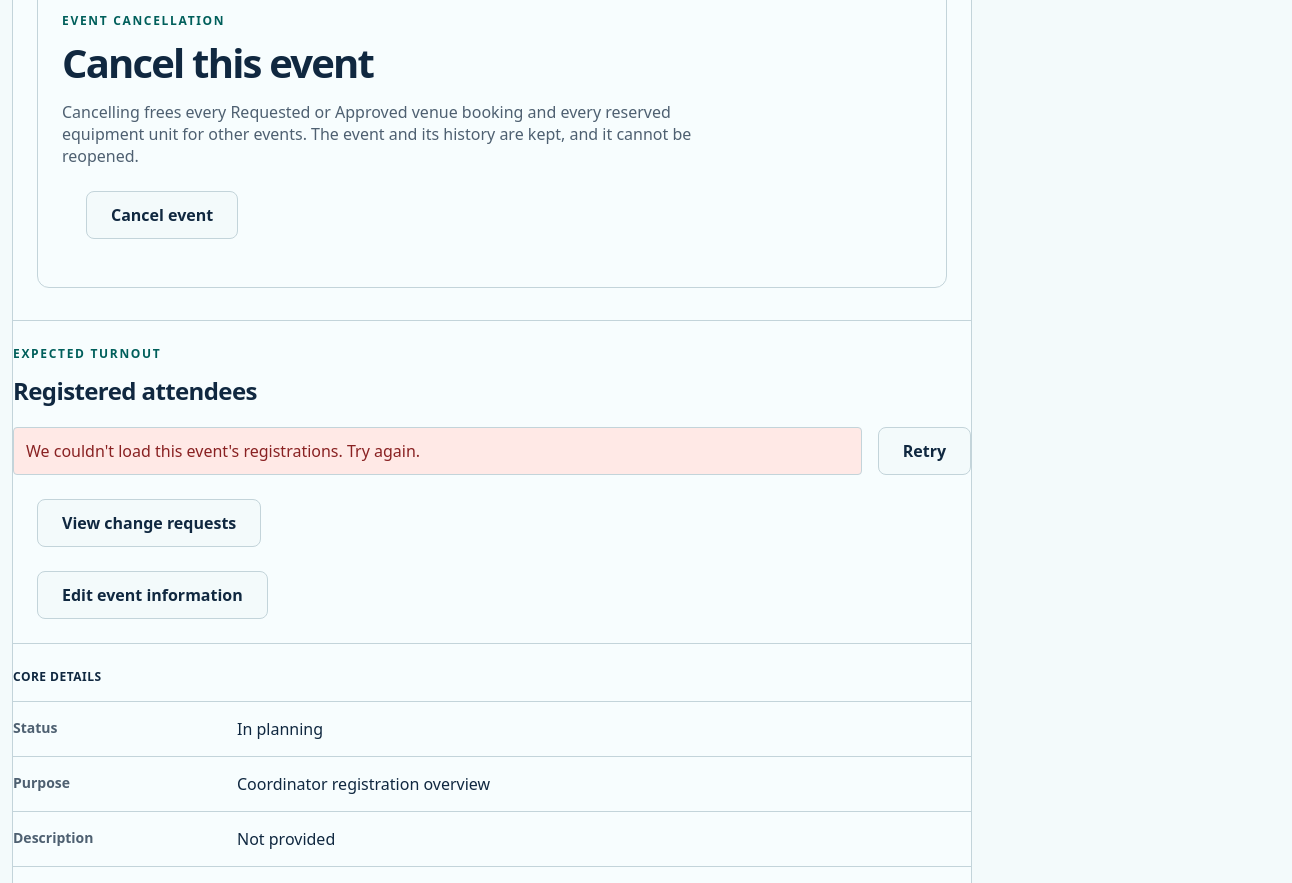
Test: QA-SPL-120-018: exposes a safe load error and retries from the event page
(page scrolled)
Expected: the message shows "We couldn't load this event's registrations.", [26,440,420,462]
Click the button "Retry" at (924, 451), box [878,427,971,475]
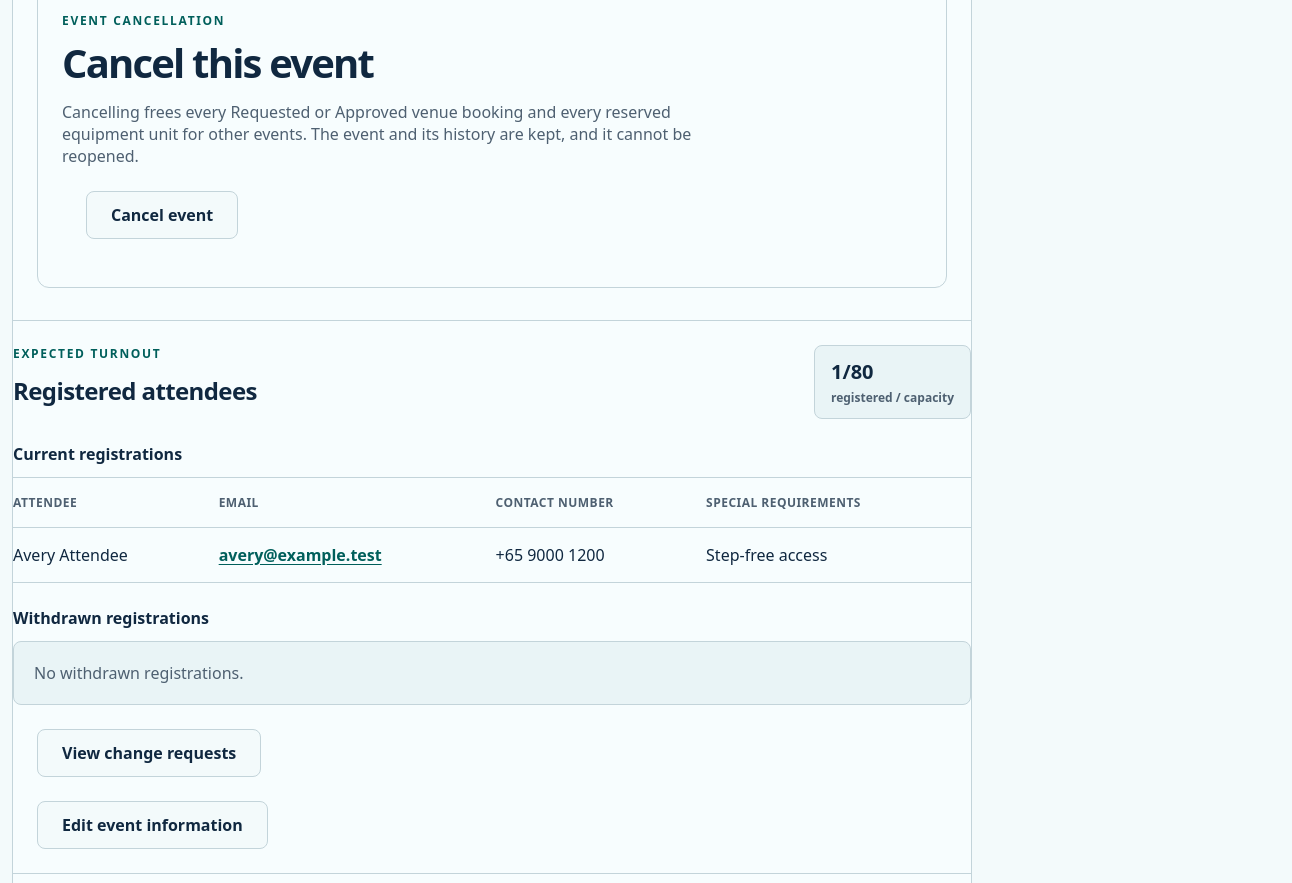
Now the text "Avery Attendee" is shown, box [13,528,219,582]
